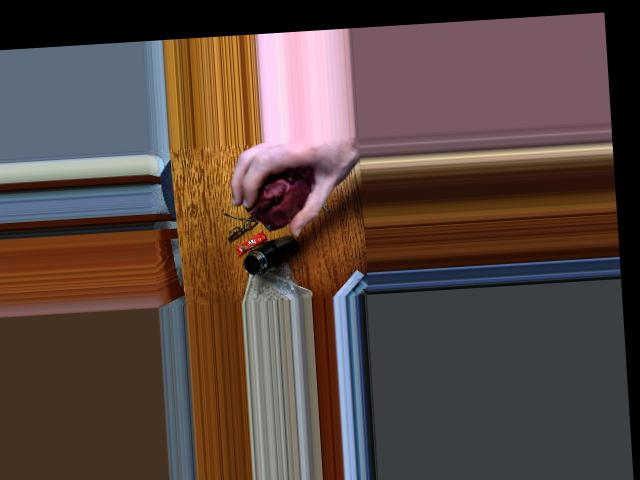onion: (243, 166, 315, 223)
